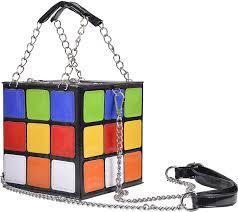cube: (8, 80, 145, 197)
